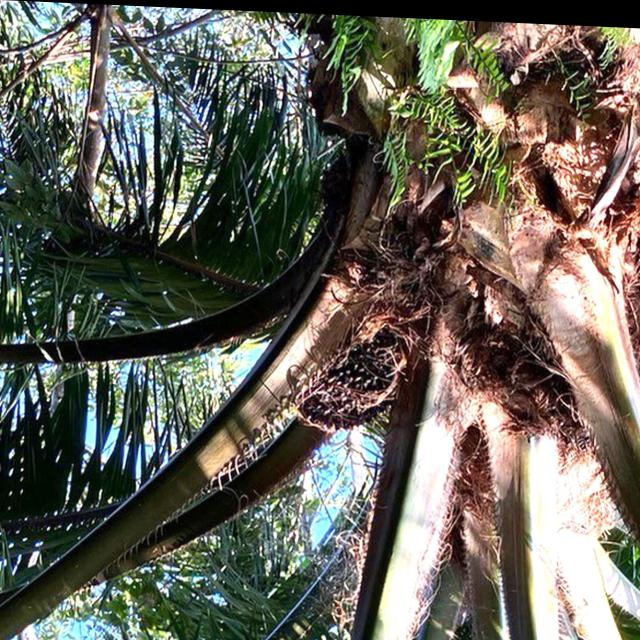unripe: (280, 306, 404, 443)
